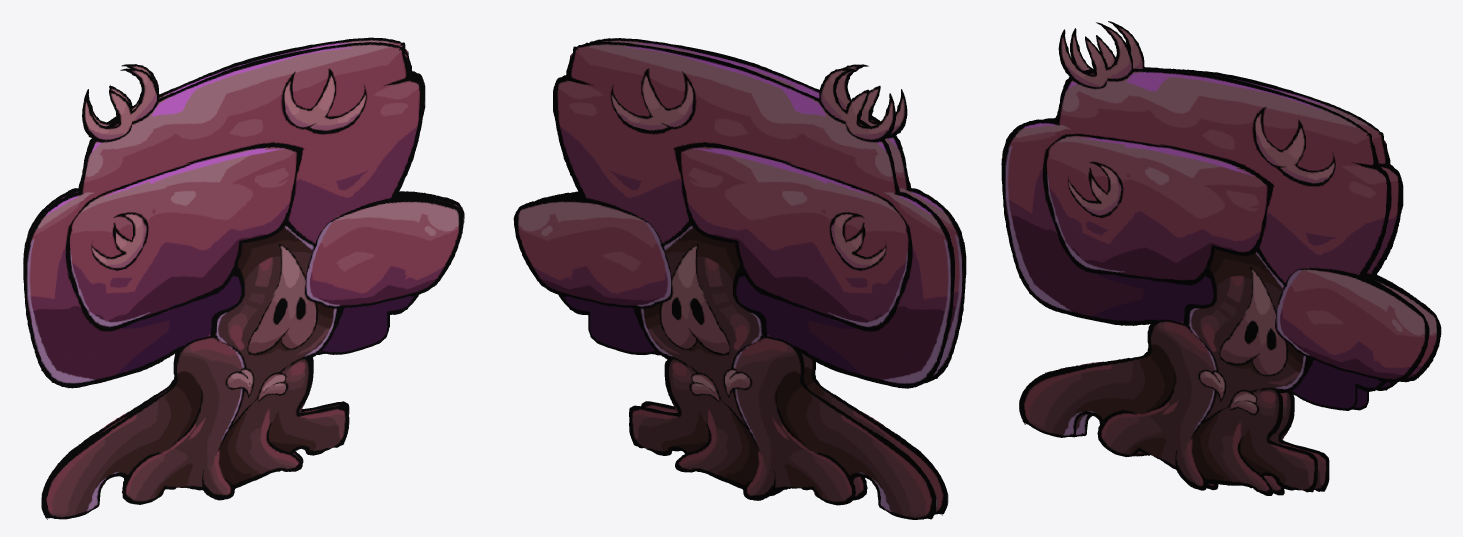
File: Arbol03.fbx
3 views of the same model, side by side, from view 1: azimuth 30°, elevation 25°; view 2: azimuth 150°, elevation 25°; view 3: azimuth 330°, elevation 25° (orthographic). The views are drawn at different scales.
Parts seen in each view (by area): view 1: pCube222; view 2: pCube222; view 3: pCube222.
Part boxes in pixels (<box>): pCube222: <box>23,37,464,519</box>; pCube222: <box>513,38,966,519</box>; pCube222: <box>1001,21,1441,495</box>.
Size of the model in its own units: 144 by 140 by 3.05.
